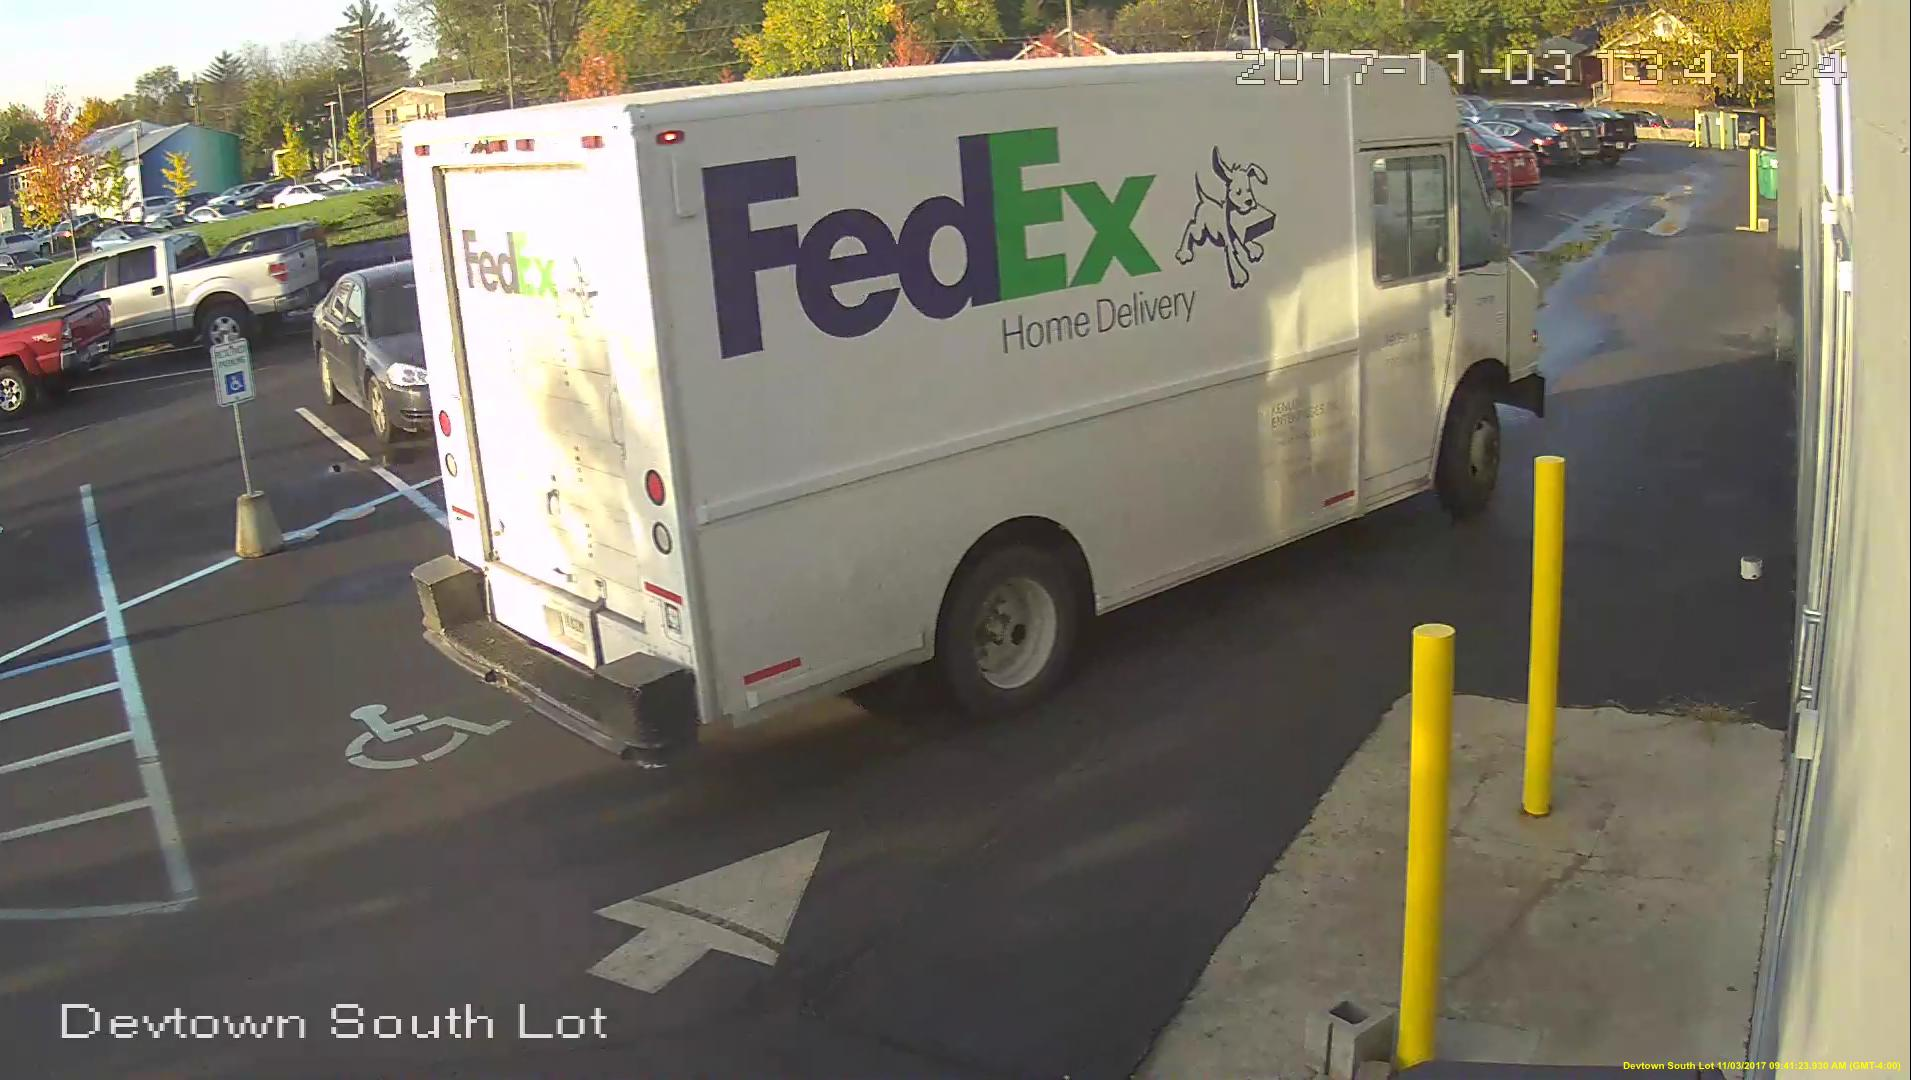fedex_truck: (394, 45, 1554, 766)
